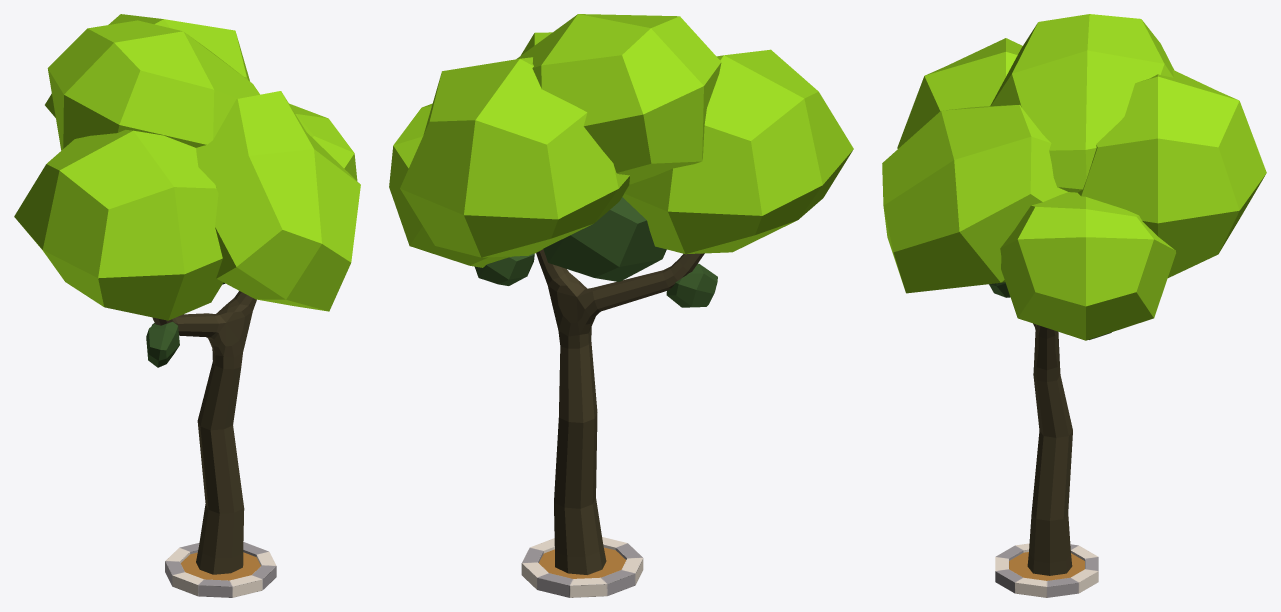
The model's file is Tree_Cartoon.fbx.
The picture shows the model from 3 angles, left to right: view 1: azimuth 30°, elevation 25°; view 2: azimuth 150°, elevation 25°; view 3: azimuth 270°, elevation 25°; orthographic projection. The views are drawn at different scales.
Parts seen in each view (by area): view 1: Cube.001, Cube.005, Cube.008, Vert, bagianbawah, Cube.004, Cube, Cube.003; view 2: Cube.004, Cube.001, Cube.008, Vert, Cube.007, bagianbawah, Cube, Cube.003, Cube.006; view 3: Cube.005, Cube.004, Cube, Cube.008, Vert, Cube.001, bagianbawah.
Part boxes in pixels (<box>): Cube.001: <box>14,129,223,320</box>; Cube.005: <box>196,91,360,311</box>; Cube.008: <box>47,20,259,150</box>; Vert: <box>152,291,256,574</box>; bagianbawah: <box>165,542,276,597</box>; Cube.004: <box>45,14,249,117</box>; Cube: <box>289,103,357,180</box>; Cube.003: <box>146,321,179,367</box>; Cube.004: <box>400,57,629,257</box>; Cube.001: <box>622,49,853,254</box>; Cube.008: <box>516,14,721,184</box>; Vert: <box>536,249,704,574</box>; Cube.007: <box>543,197,666,281</box>; bagianbawah: <box>521,537,643,597</box>; Cube: <box>389,103,542,267</box>; Cube.003: <box>666,263,717,307</box>; Cube.006: <box>475,253,534,285</box>; Cube.005: <box>882,105,1067,293</box>; Cube.004: <box>1078,70,1266,277</box>; Cube: <box>1000,192,1175,340</box>; Cube.008: <box>990,14,1173,192</box>; Vert: <box>1027,323,1072,575</box>; Cube.001: <box>897,38,1022,148</box>; bagianbawah: <box>995,543,1098,597</box>.
Bounding box in the file's own units: 581 × 844 × 565.
